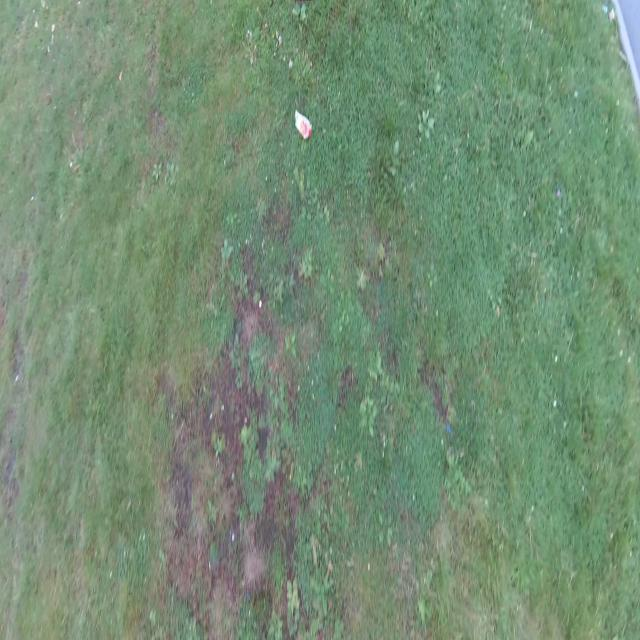rubbish: (295, 109, 313, 140)
